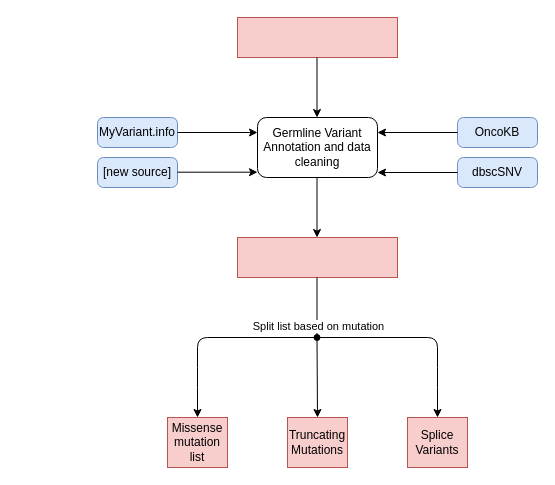
Image size: 555x485. Some labels were removed from this diagram. The shapes that lost their labels are listed below. From the top down, each one's centre as x and y in pixels, then its label:
At point (317, 37): "MSK-IMPACT Germline Variant List".
At point (317, 257): "Annotated germline mutation list (classification ready)".
